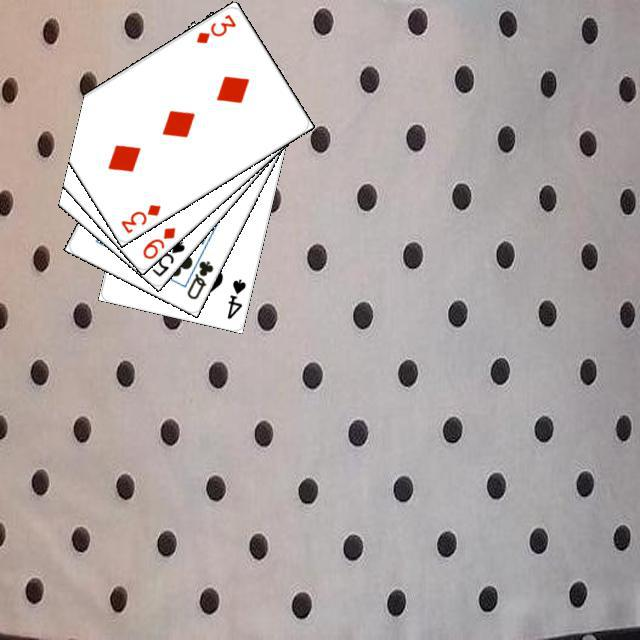3d: (191, 9, 238, 45), (116, 199, 162, 235)
4s: (222, 274, 247, 321)
5s: (147, 235, 187, 278)
9d: (137, 222, 177, 261)
Qc: (177, 248, 215, 301)
